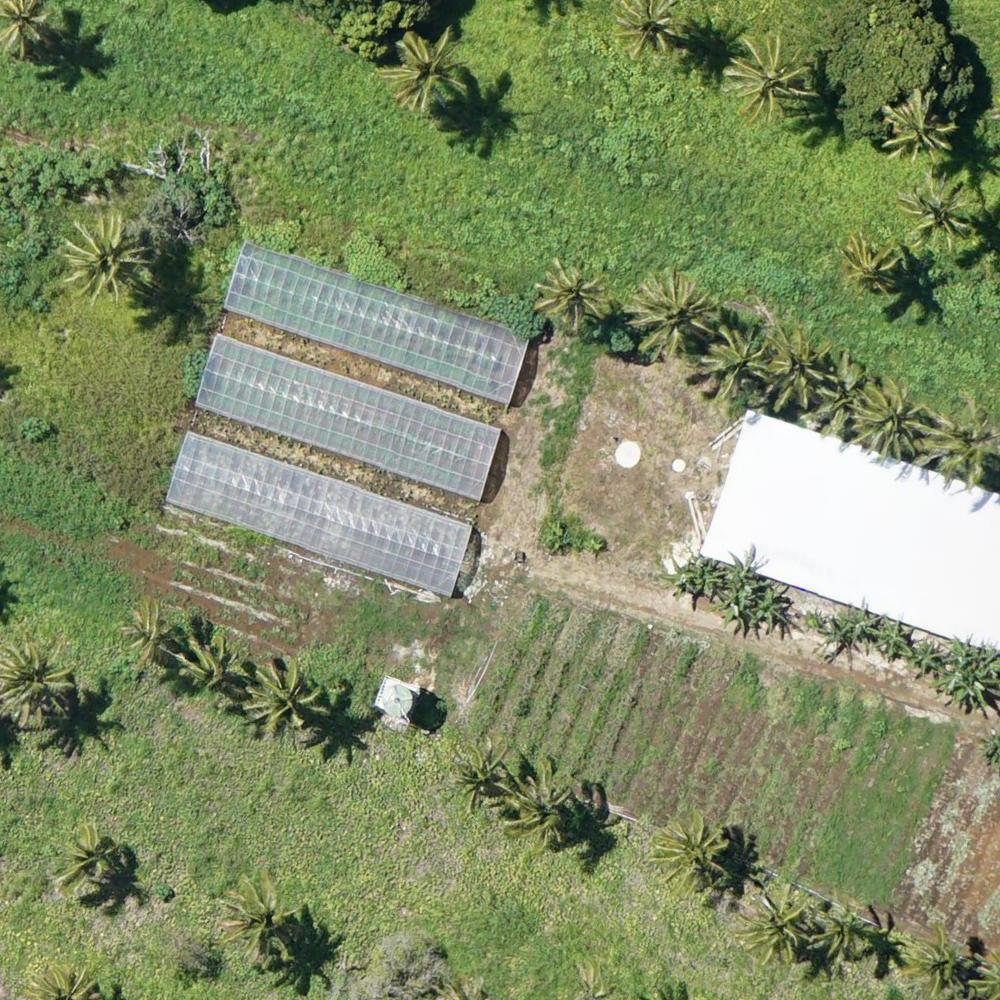Palm: (726, 31, 816, 115), (648, 812, 728, 905), (625, 273, 715, 355), (62, 215, 149, 299), (917, 400, 998, 490), (216, 874, 292, 960), (848, 376, 923, 463), (763, 323, 837, 411), (384, 31, 468, 107), (1, 646, 75, 730), (898, 168, 976, 247), (881, 89, 955, 164), (246, 660, 324, 730), (505, 771, 578, 845), (532, 257, 607, 327), (738, 888, 807, 964), (175, 633, 248, 704), (701, 322, 771, 393), (55, 825, 120, 892), (120, 598, 182, 663), (618, 1, 684, 62), (836, 233, 901, 293), (452, 744, 512, 806), (807, 904, 866, 963)
